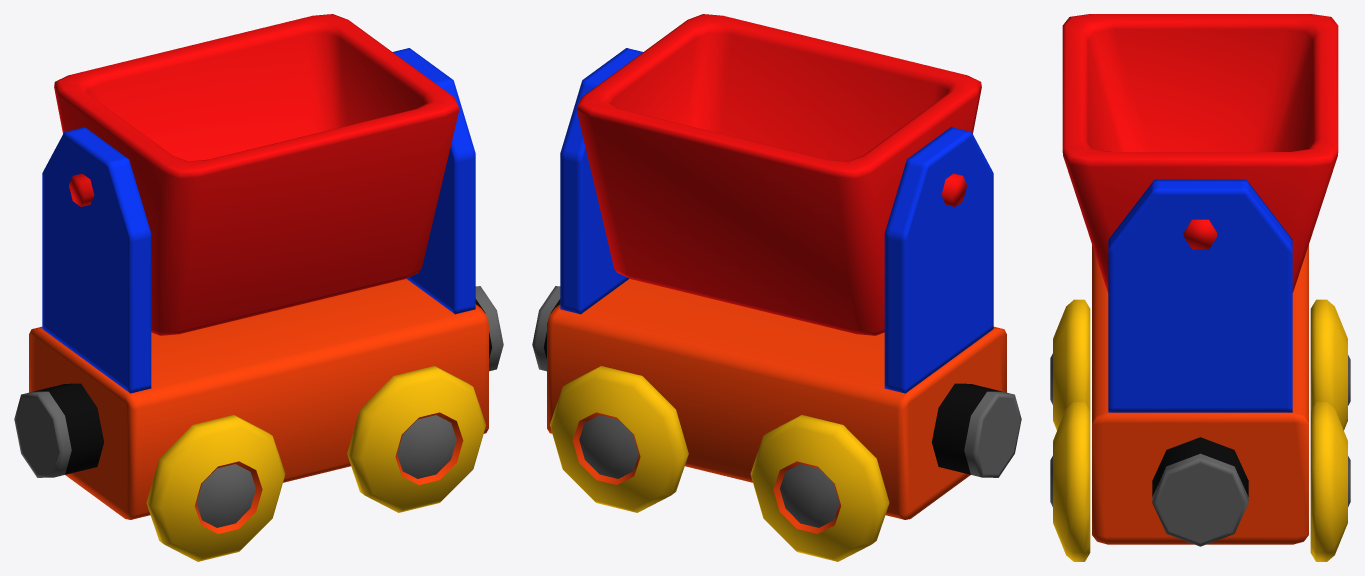
The model's file is train_wagon_01.FBX.
The picture shows the model from 3 angles, left to right: view 1: azimuth 30°, elevation 25°; view 2: azimuth 150°, elevation 25°; view 3: azimuth 270°, elevation 25°; orthographic projection. The views are drawn at different scales.
Visible parts, largest first — view 1: train_wagon_01; view 2: train_wagon_01; view 3: train_wagon_01.
Boxes of the visible parts, left/top/right/bottom form: train_wagon_01: left=14, top=14, right=503, bottom=561; train_wagon_01: left=532, top=14, right=1021, bottom=561; train_wagon_01: left=1050, top=14, right=1350, bottom=561.
Size of the model in its own units: 717 by 613 by 404.
